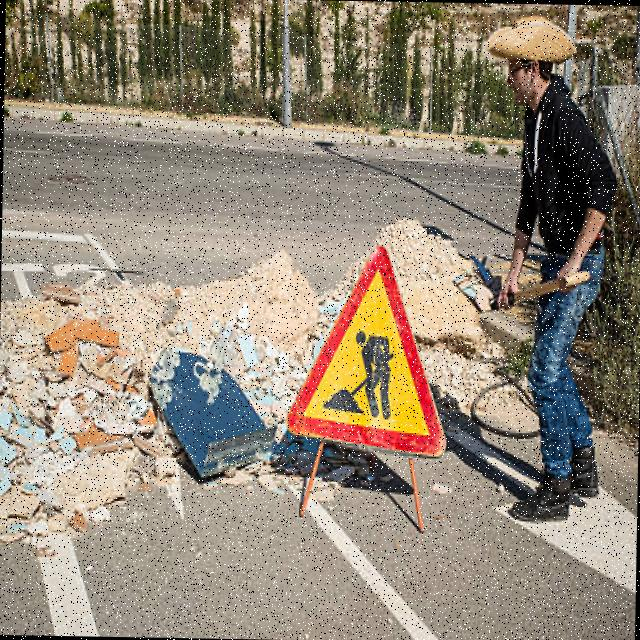road_work: (285, 244, 447, 461)
